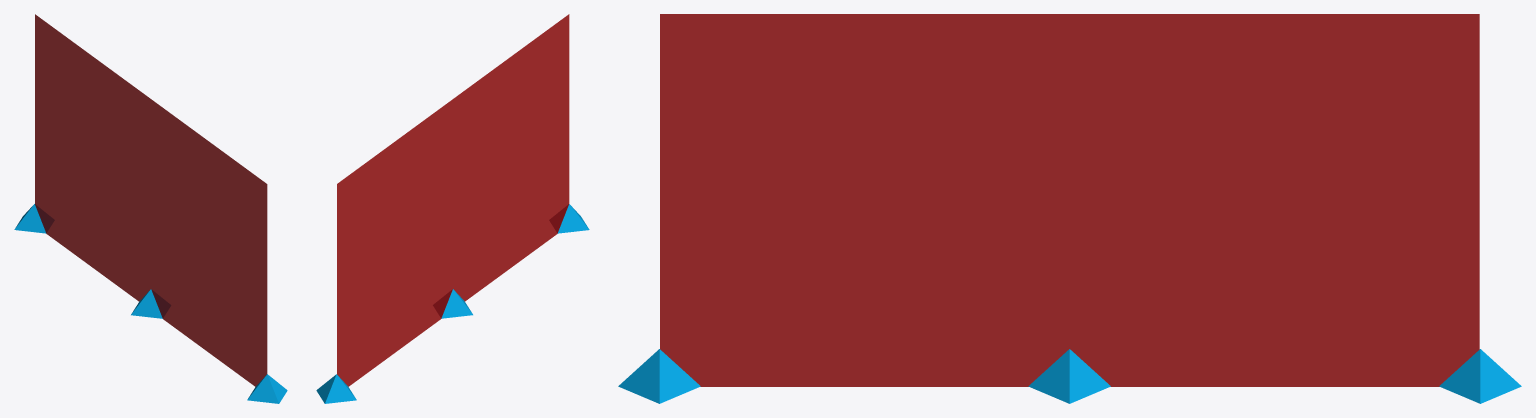
Rendered from Wall_02.fbx.
3 renders of one model, left to right at view 1: azimuth 30°, elevation 25°; view 2: azimuth 150°, elevation 25°; view 3: azimuth 270°, elevation 25°, orthographic. The views are drawn at different scales.
Visible parts, largest first — view 1: polySurface1; view 2: polySurface1; view 3: polySurface1.
Part boxes in pixels (box(x1,y1,x2,y2)): polySurface1: box(14, 14, 287, 403); polySurface1: box(316, 14, 589, 403); polySurface1: box(618, 14, 1521, 403).
Size of the model in its own units: 1.41 by 7.01 by 15.39.
